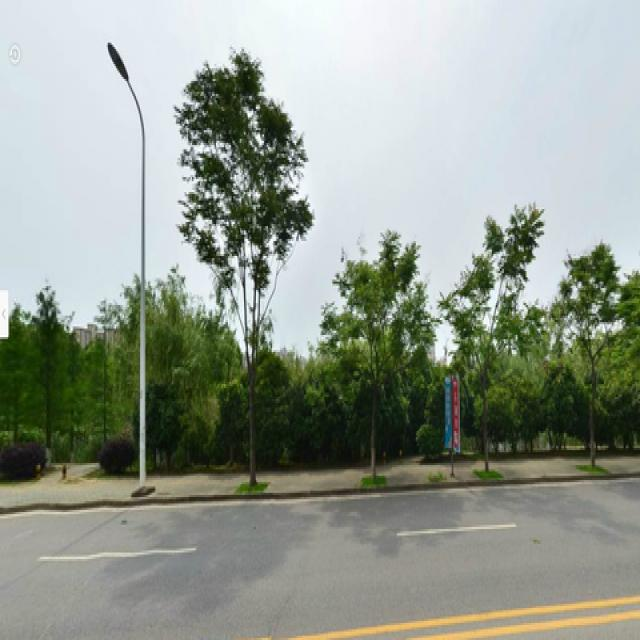koel: (175, 36, 308, 489)
